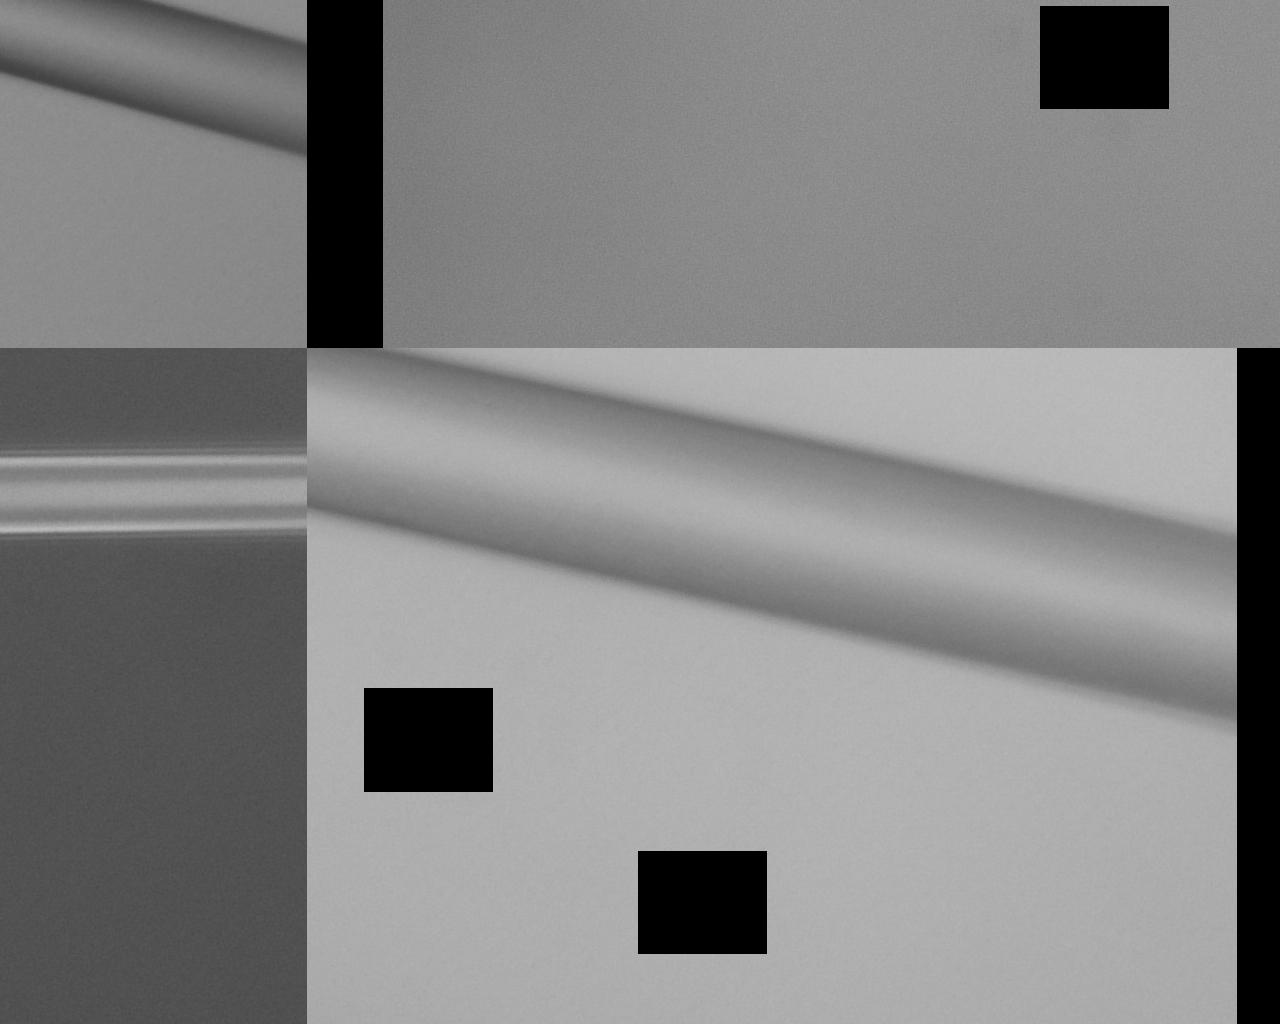fiber: (283, 0, 807, 1024)
